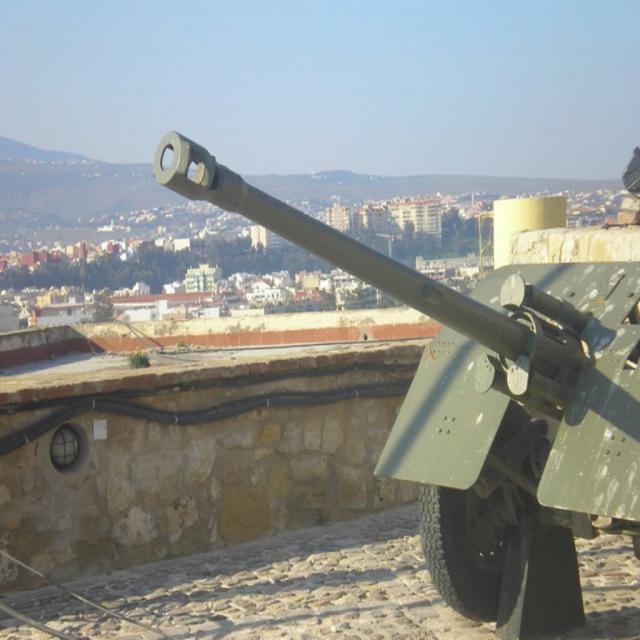tank: (152, 129, 638, 618)
